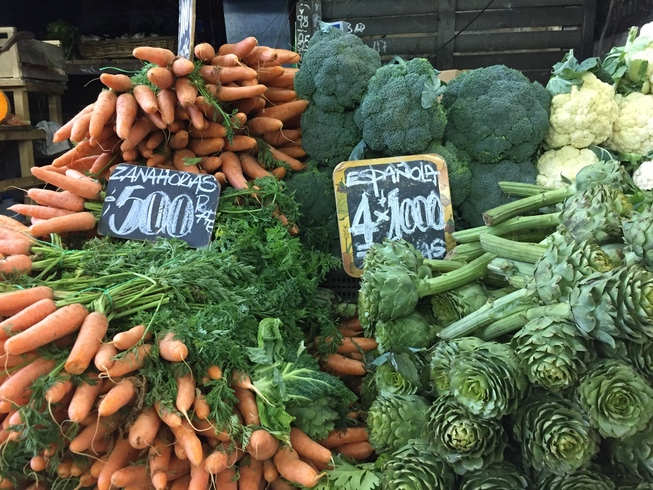precio: (336, 156, 458, 290), (102, 155, 232, 256)
